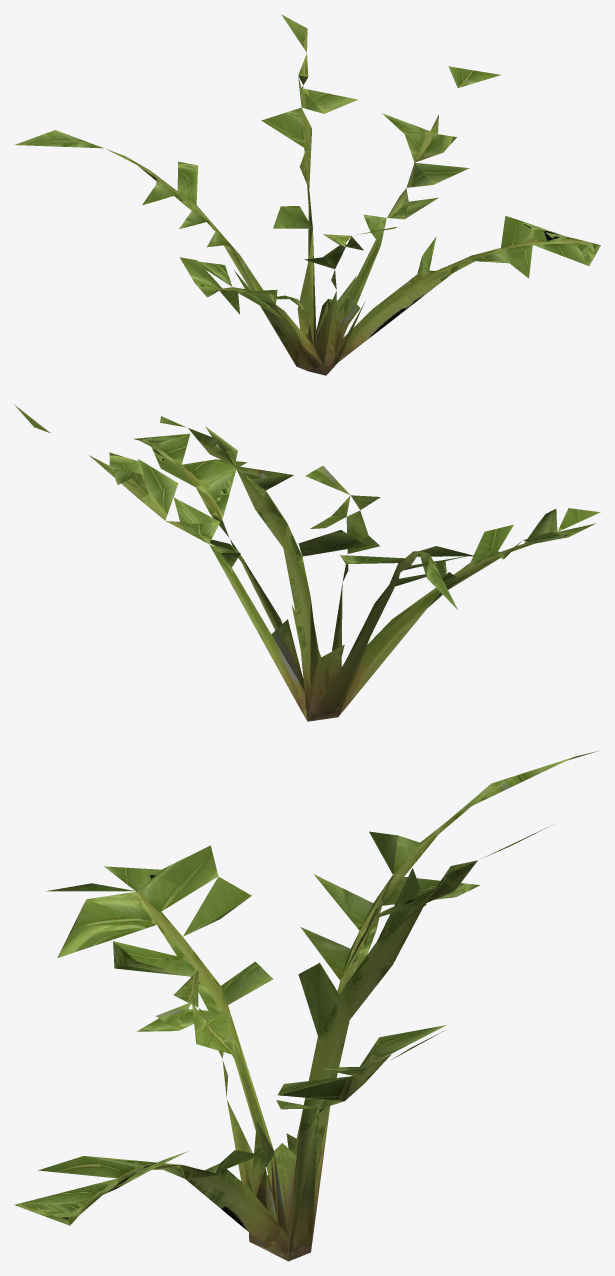
Rendered from co_compact_fern_lod1.glb.
3 renders of one model, top to bottom at view 1: azimuth 30°, elevation 25°; view 2: azimuth 150°, elevation 25°; view 3: azimuth 270°, elevation 25°, orthographic. The views are drawn at different scales.
Visible parts, largest first — view 1: output_unwrapped; view 2: output_unwrapped; view 3: output_unwrapped.
Part boxes in pixels (x1,y1,x2,y2): output_unwrapped: (15, 14, 600, 375); output_unwrapped: (14, 404, 600, 721); output_unwrapped: (14, 751, 598, 1261).
Bounding box in the file's own units: 1.61 × 1.03 × 1.18.
1 material, 1 textured.
